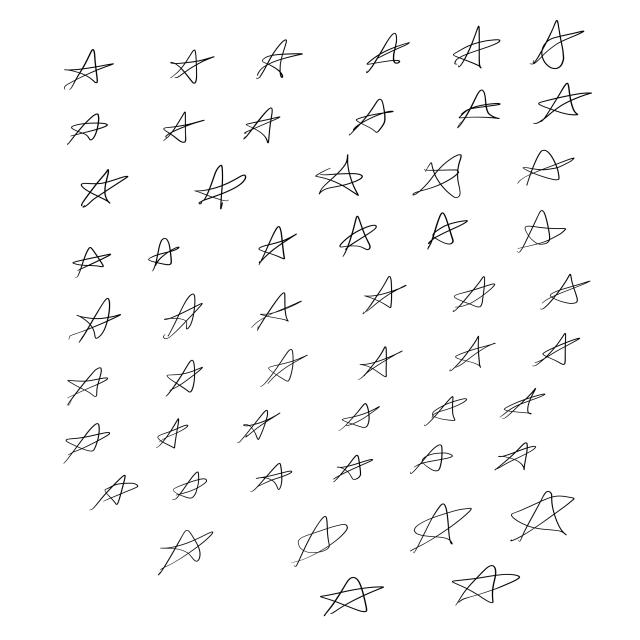Button: (401, 500, 478, 556), (510, 482, 577, 546), (282, 510, 359, 564), (529, 77, 602, 132), (449, 559, 523, 613), (309, 142, 368, 208), (66, 292, 128, 349), (404, 146, 469, 200), (312, 574, 389, 619), (344, 272, 416, 320), (519, 144, 581, 197), (512, 206, 569, 262), (451, 16, 506, 74), (529, 270, 590, 322), (446, 86, 516, 130), (154, 526, 215, 576), (56, 419, 120, 466), (240, 220, 302, 268), (46, 50, 116, 92), (163, 38, 213, 96), (241, 349, 319, 386), (355, 28, 415, 76), (324, 449, 384, 496), (433, 275, 500, 317), (436, 335, 503, 377), (49, 367, 122, 405), (534, 21, 586, 71), (424, 208, 476, 258), (228, 400, 282, 448), (78, 162, 124, 218), (406, 436, 460, 483), (134, 235, 192, 278), (156, 359, 214, 402), (60, 107, 113, 154), (192, 165, 245, 212), (493, 436, 553, 477), (346, 92, 394, 143), (156, 292, 208, 339), (244, 458, 304, 498), (251, 292, 302, 339), (256, 38, 304, 86), (535, 327, 587, 371), (160, 104, 202, 158), (493, 378, 545, 420), (88, 472, 137, 516), (351, 343, 407, 381), (170, 466, 214, 508), (423, 391, 468, 430), (238, 102, 275, 148), (66, 244, 116, 278), (334, 400, 378, 434), (156, 421, 196, 452), (344, 218, 376, 254)
